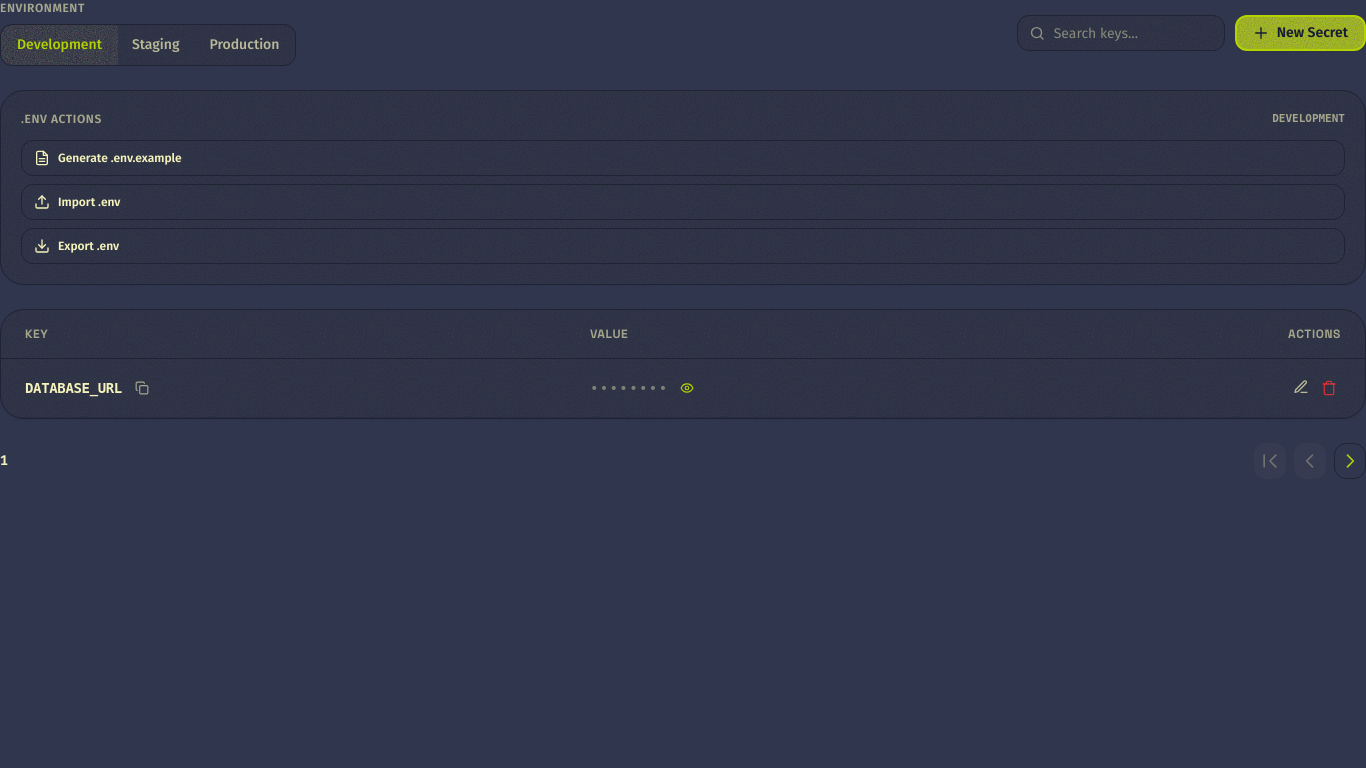
SecretsPage › generates, copies, and downloads .env.example for the active environment
The width and height of the screenshot is (1366, 768).
Later steps or results of the test are not shown.
Click the button "Generate .env.example".
click(120, 158)  # box [21,140,1345,176]
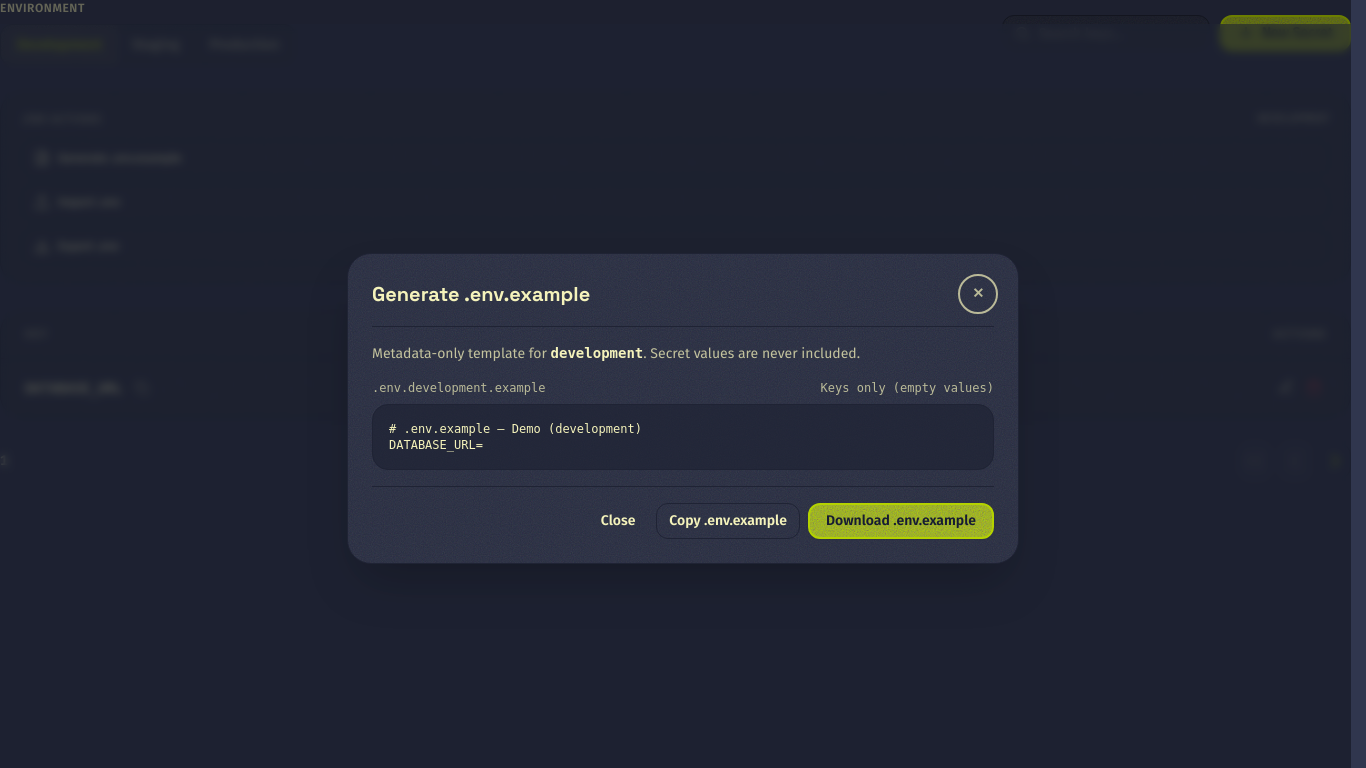
Check: the text with test id "env-example-preview" shows "DATABASE_URL=", box [389,422,642,452]
